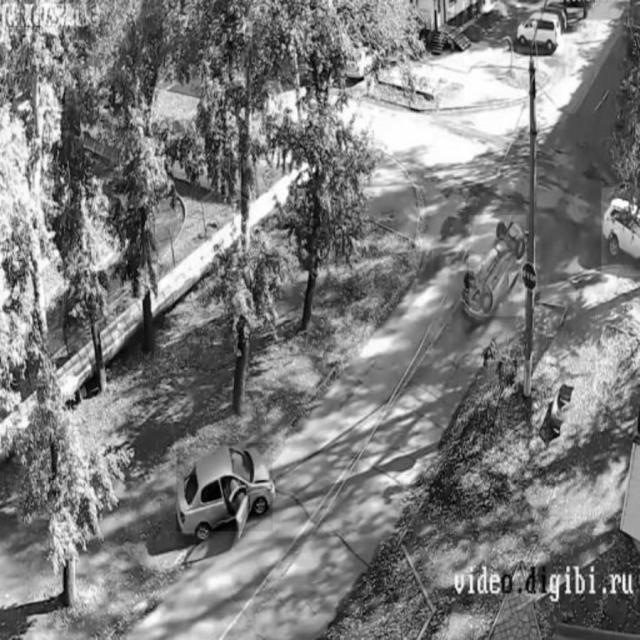vehicle: (177, 443, 273, 531), (470, 216, 527, 317), (601, 188, 640, 276), (518, 6, 564, 52)
